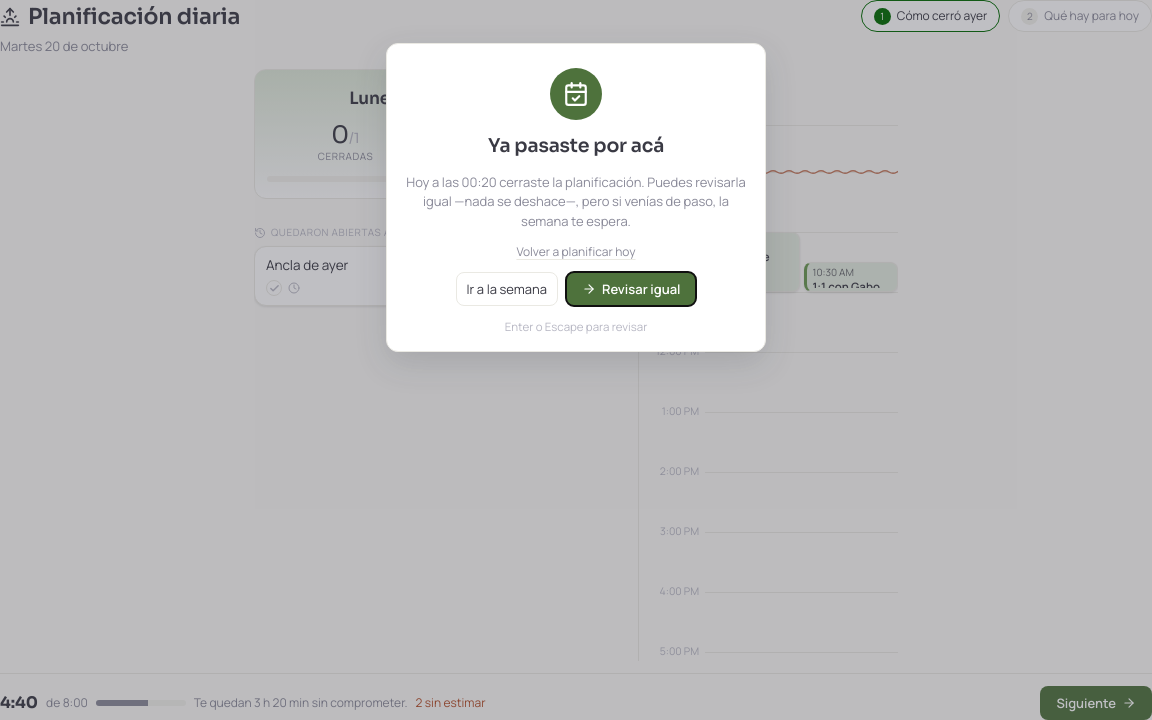
it: DailyPlanningView › entrar a un día ya planificado avisa, y deja revisarlo igual
(page scrolled)
What coordinates should you click on to do the following:
click the button "Revisar igual"
I would click on:
 (631, 289)
Its box is left=566, top=272, right=696, bottom=306.
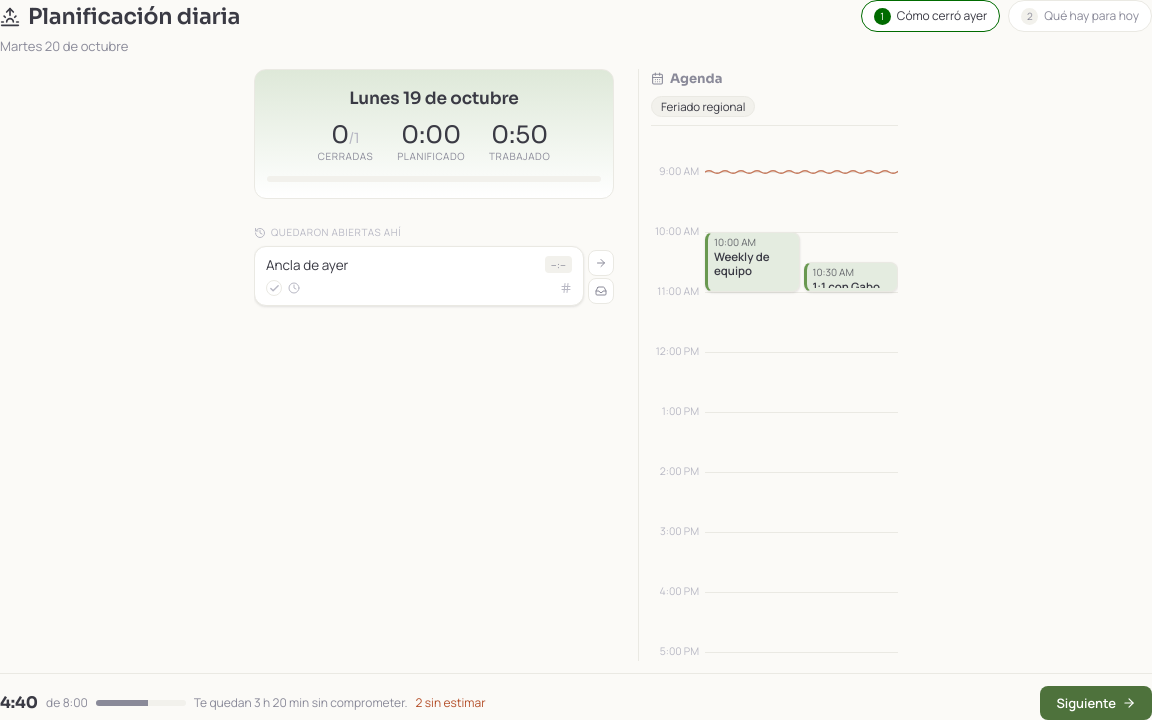
expect the dialog is gone: met
expect the text "La semana" is gone: met
